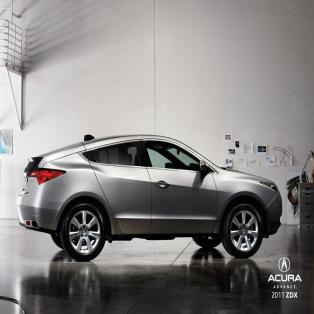Auto: (15, 131, 283, 264)
